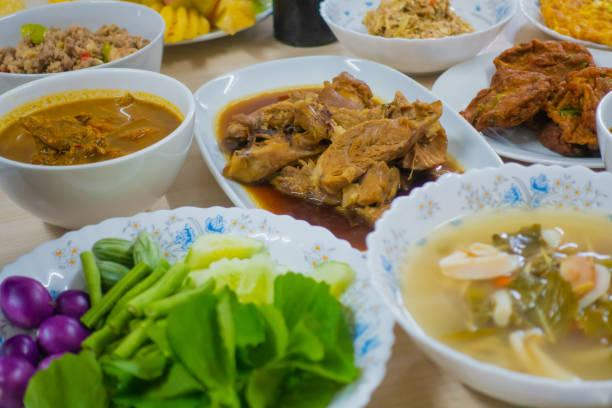Braised Crucian Carp: (1, 206, 389, 406), (190, 52, 497, 250), (366, 166, 609, 404), (0, 66, 196, 229), (444, 37, 612, 180)
